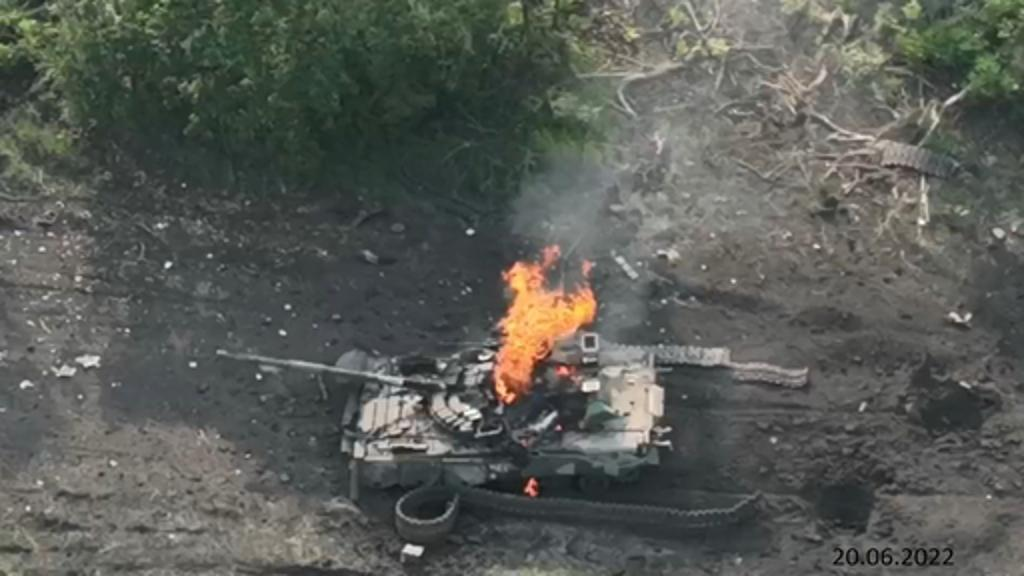TANK: (198, 310, 672, 508)
